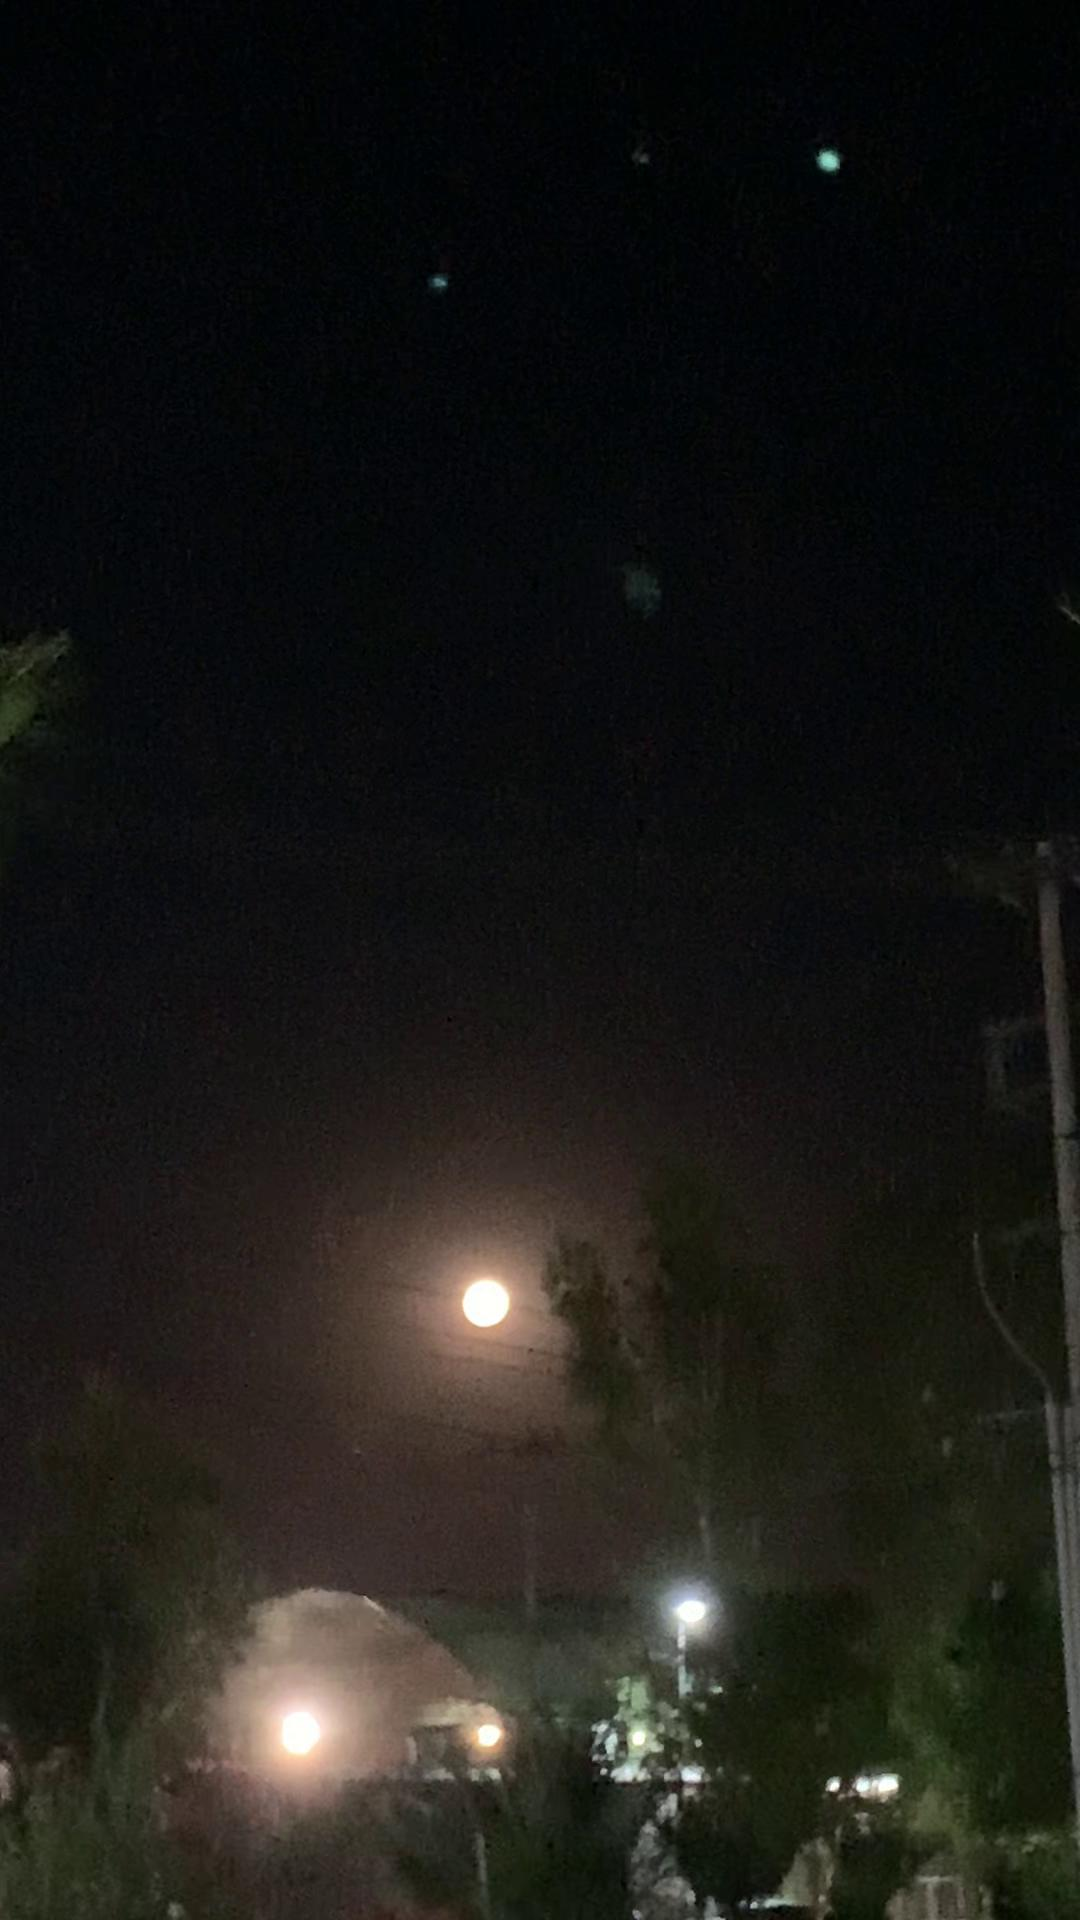moon: (440, 1274, 530, 1350)
